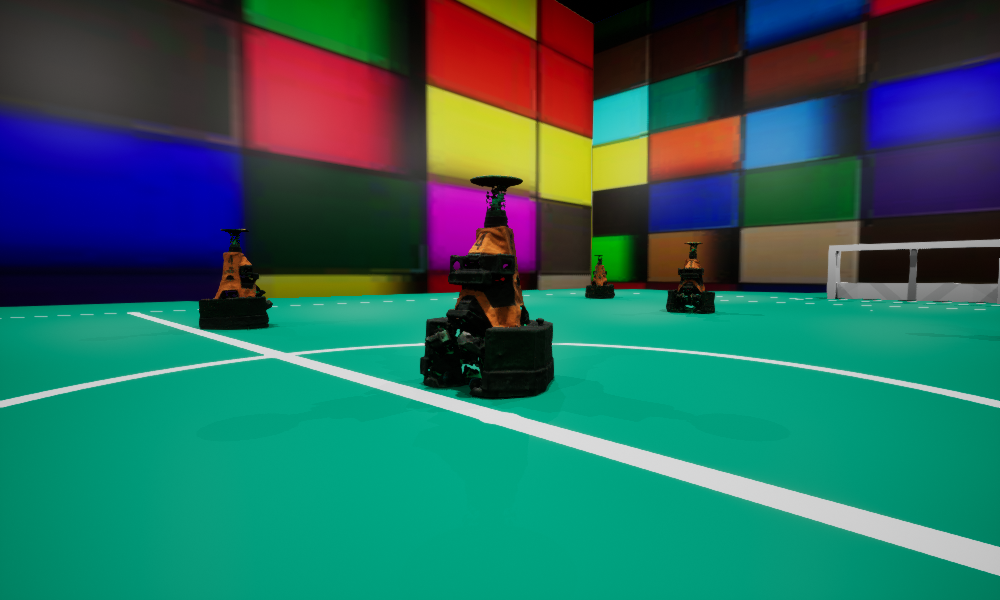o: (420, 175, 553, 396), (199, 229, 272, 329), (666, 242, 714, 312), (585, 255, 614, 298)
